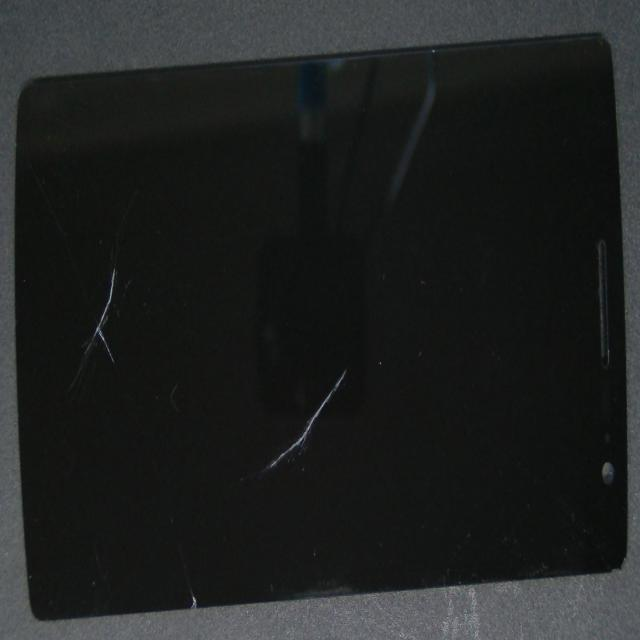Scratches: (229, 345, 380, 543), (54, 225, 165, 424)
